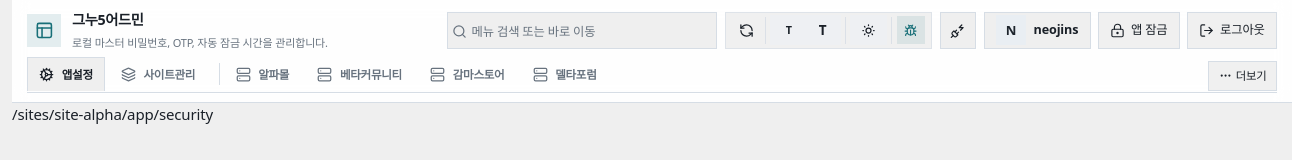
Test: AppShellHeader › returns to the site overview when a site tab is clicked from a fixed workspace tab
Click the button "알파몰" at coordinates (262, 74), box [223, 57, 301, 91]
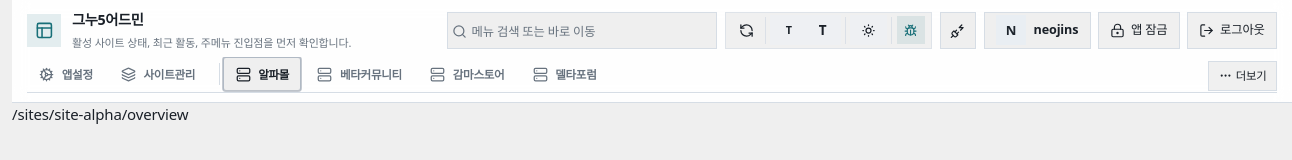
Check: the text with test id "location" reads "/sites/site-alpha/overview", box [12, 104, 188, 124]
